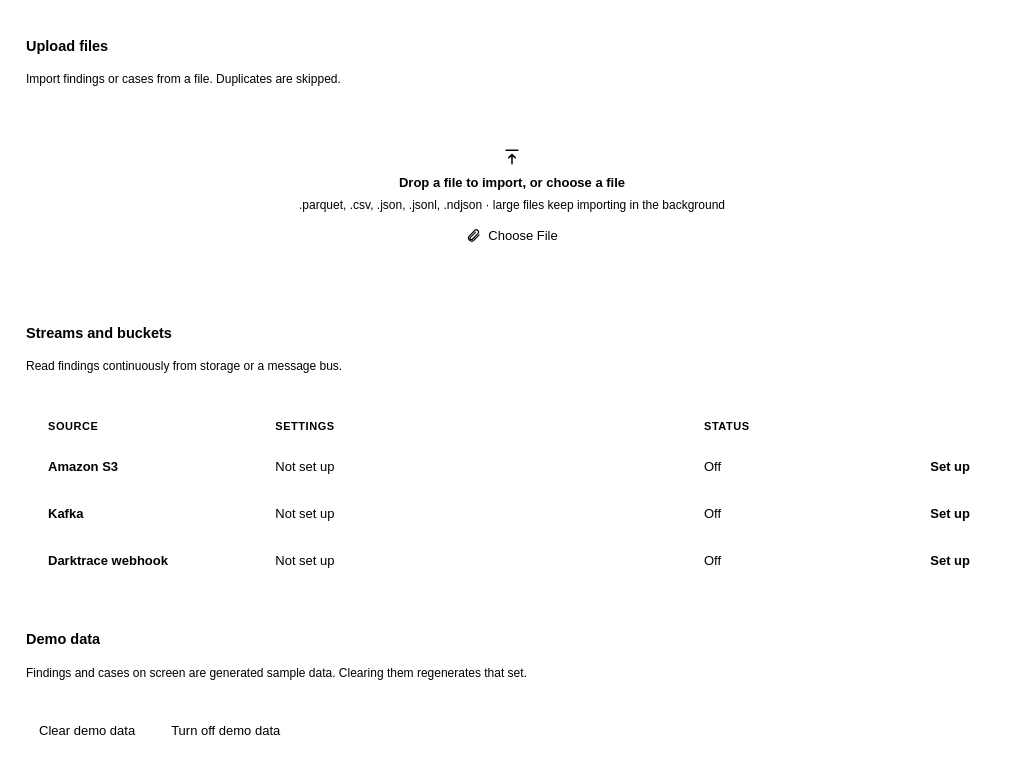
Test: manual upload › turns demo data off once confirmed, and says a restart is what applies it
Click the button "Turn off demo data": (226, 731) [158,715,293,746]
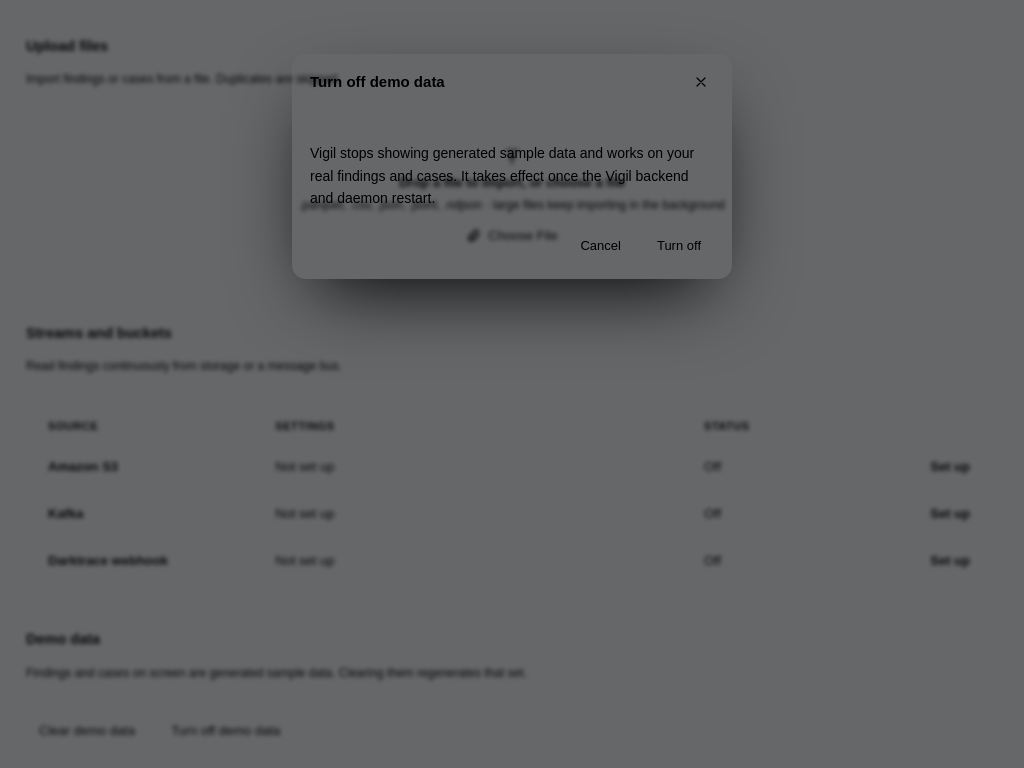
Click the button "Turn off": (679, 246) [644,230,714,261]
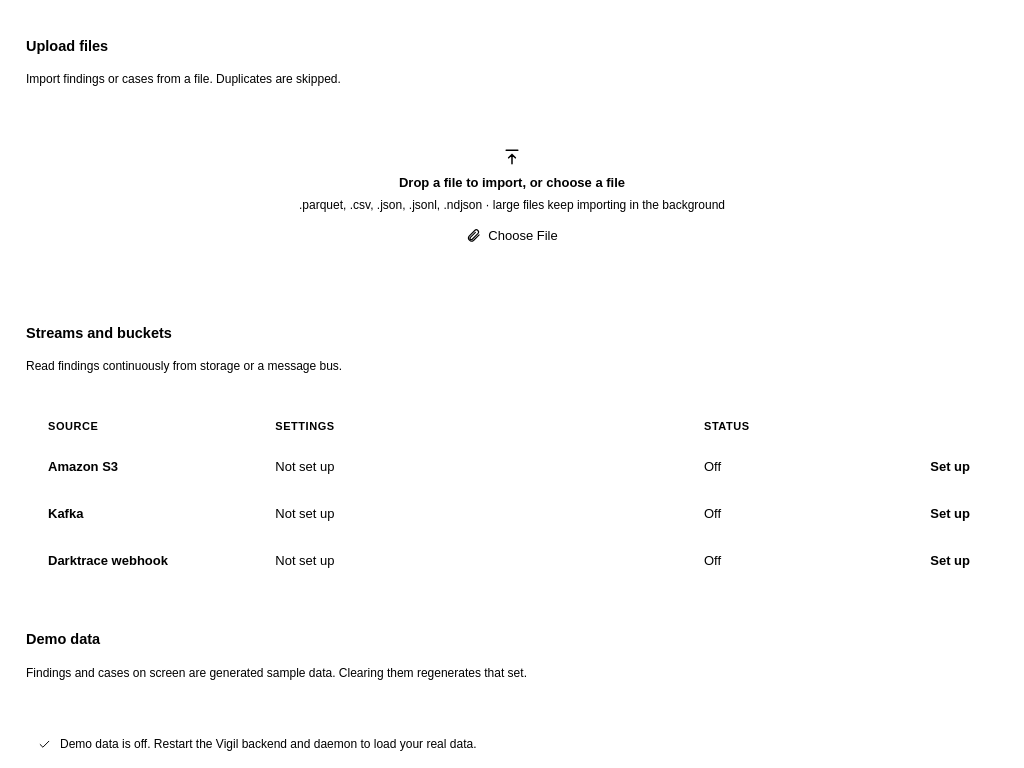
Expected: the message shows "Restart the Vigil backend and daemon", [60,737,476,751]
Expected: the button "Clear demo data" is gone
